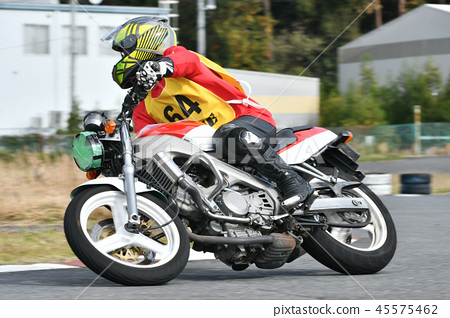helmet: (103, 19, 178, 74)
